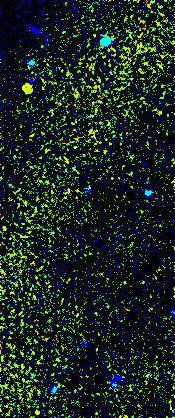star: (8, 75, 38, 105)
